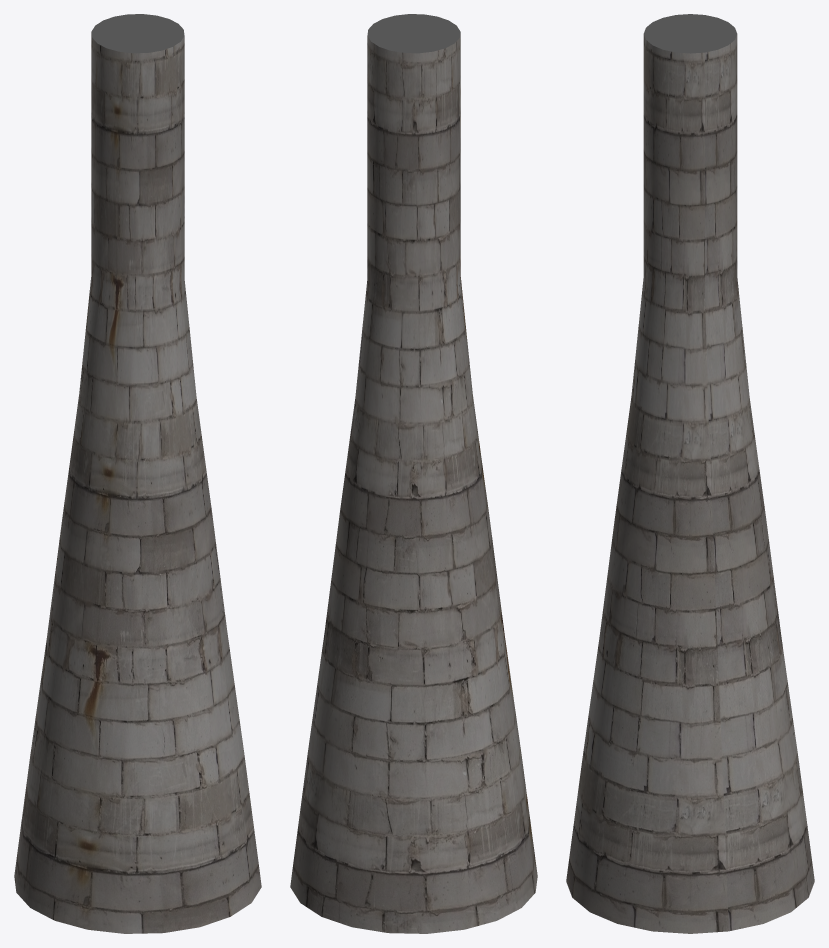
File: chimneyExported.fbx
The picture shows the model from 3 angles, left to right: view 1: azimuth 30°, elevation 25°; view 2: azimuth 150°, elevation 25°; view 3: azimuth 270°, elevation 25°; orthographic projection.
Visible parts, largest first — view 1: chimney1; view 2: chimney1; view 3: chimney1.
Part boxes in pixels (x1,y1,x2,y2): chimney1: (14,14,261,933); chimney1: (290,14,537,933); chimney1: (566,14,814,933).
Size of the model in its own units: 7.98 by 30 by 7.98.
